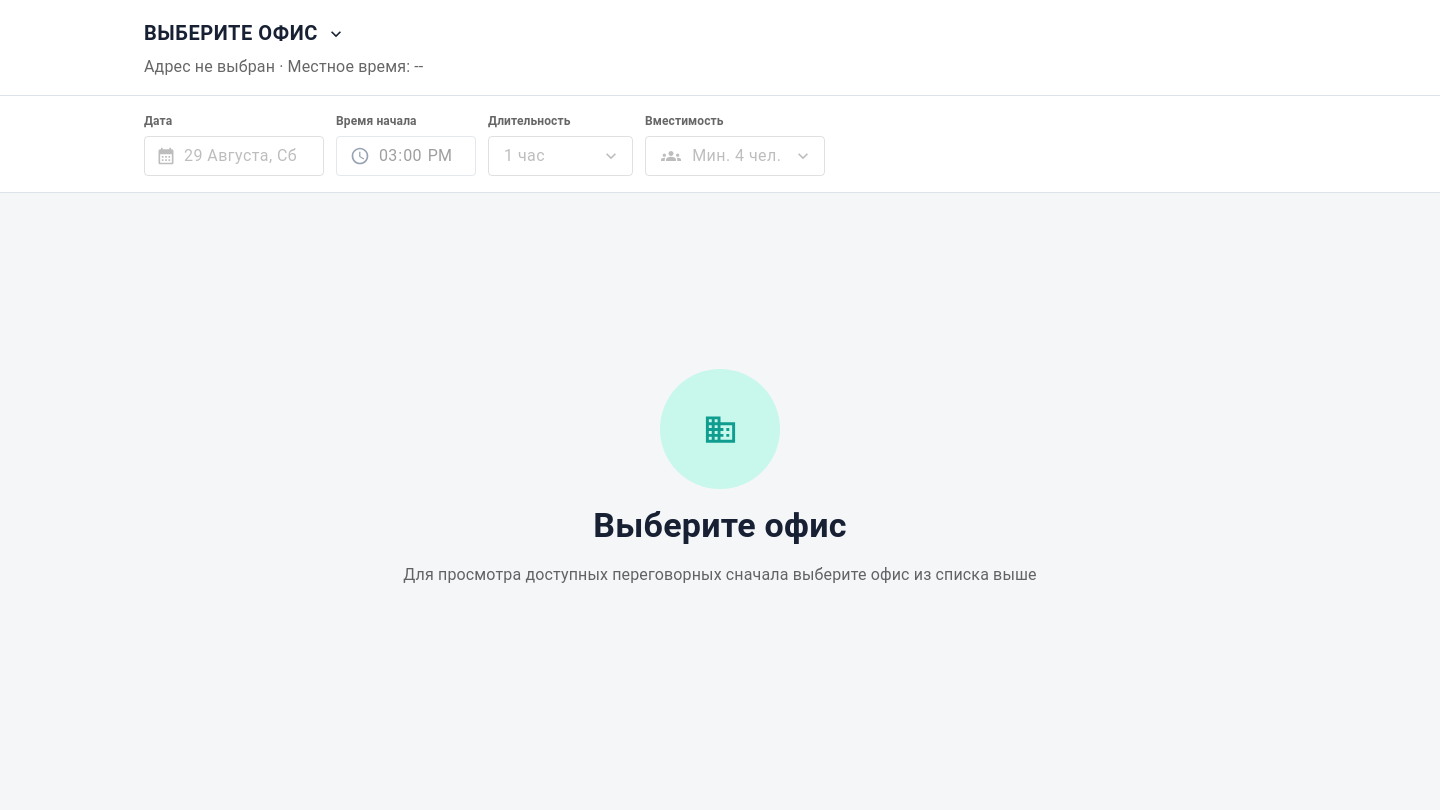
RoomsPage › loads rooms after office selection
What coordinates should you click on to do the following:
click the button "Выберите офис"
I would click on:
 (243, 34)
Its box is [144,16,342,51].
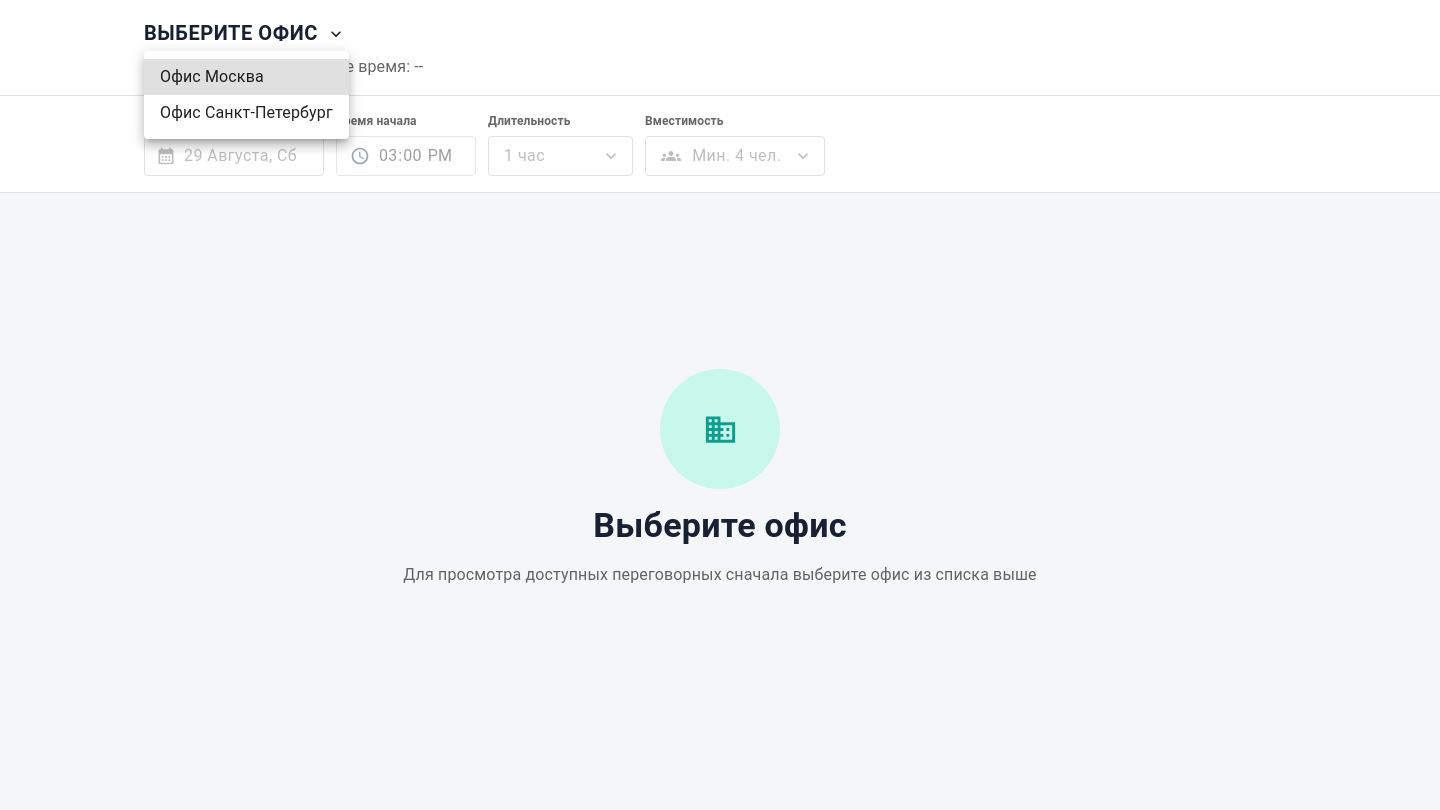
What coordinates should you click on to do the following:
click the menu item "Офис Москва"
I would click on:
 (246, 77)
Its box is [144,59,349,95].
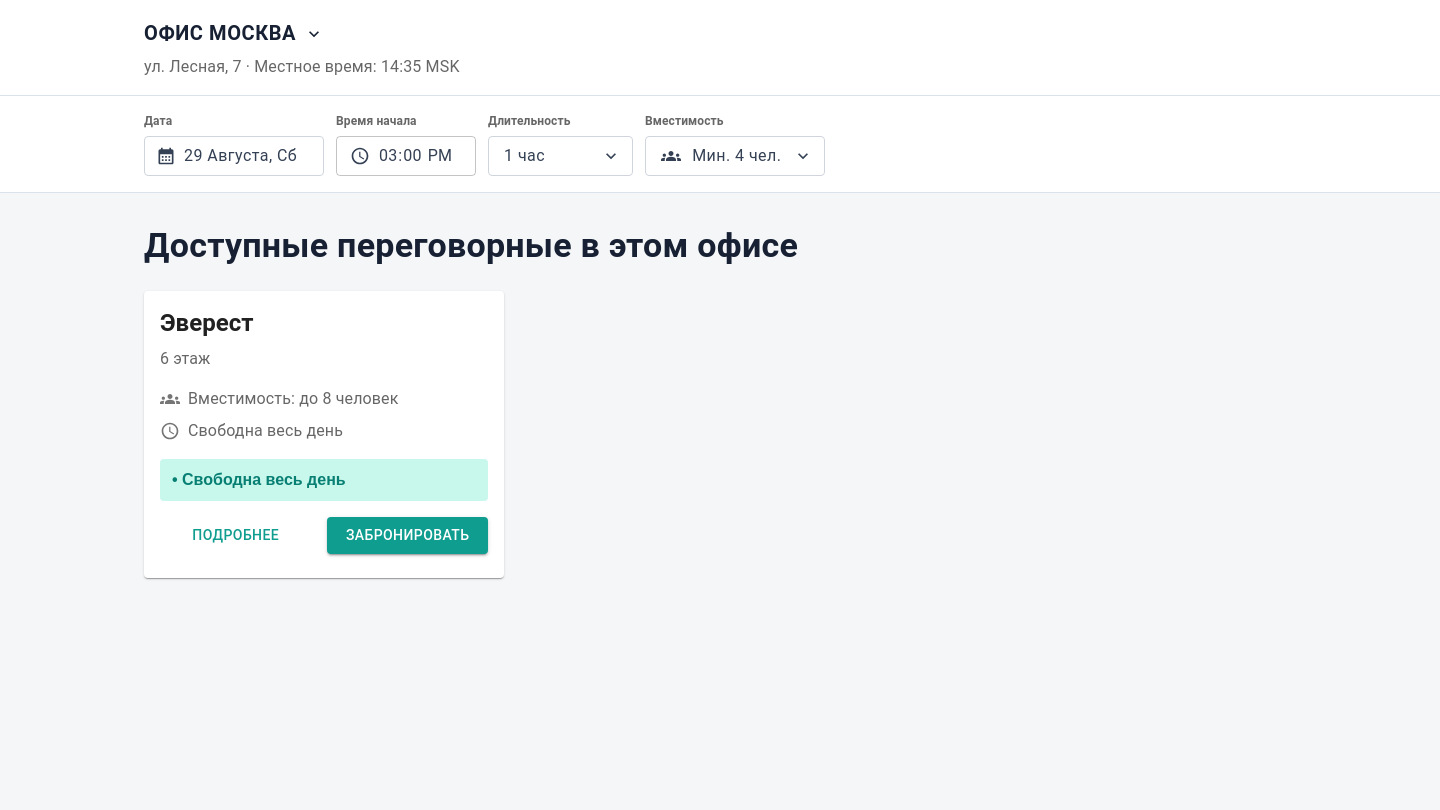
Expected: the heading "Эверест" is shown, [160,309,253,337]
Expected: the text "Вместимость: до 8 человек" is shown, [188,387,398,411]
